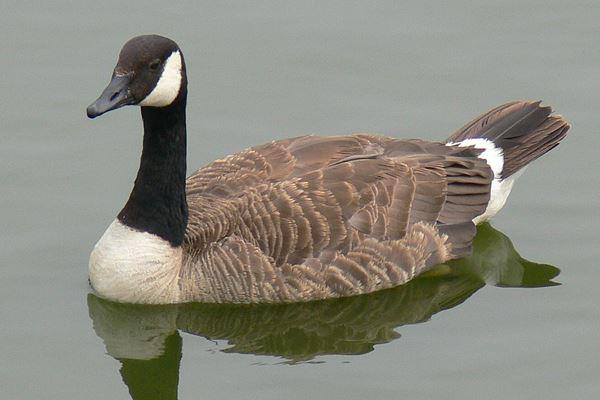Canadian-Goose: (85, 35, 566, 307)
